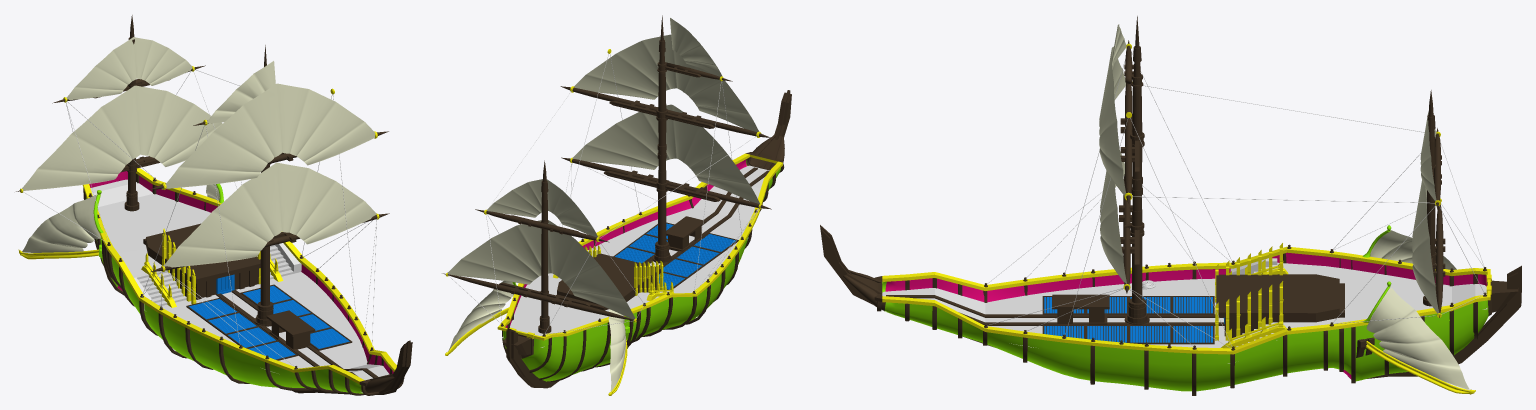
Rendered from SM_Ship.fbx.
3 views of the same model, side by side, from view 1: azimuth 30°, elevation 25°; view 2: azimuth 150°, elevation 25°; view 3: azimuth 270°, elevation 25° (orthographic). The views are drawn at different scales.
Parts seen in each view (by area): view 1: SM_Ship; view 2: SM_Ship; view 3: SM_Ship.
Part boxes in pixels (x1,y1,x2,y2): SM_Ship: (16,15,412,395); SM_Ship: (442,15,791,395); SM_Ship: (820,16,1521,395).
Bounding box in the file's own units: 2844 × 3811 × 6525.
